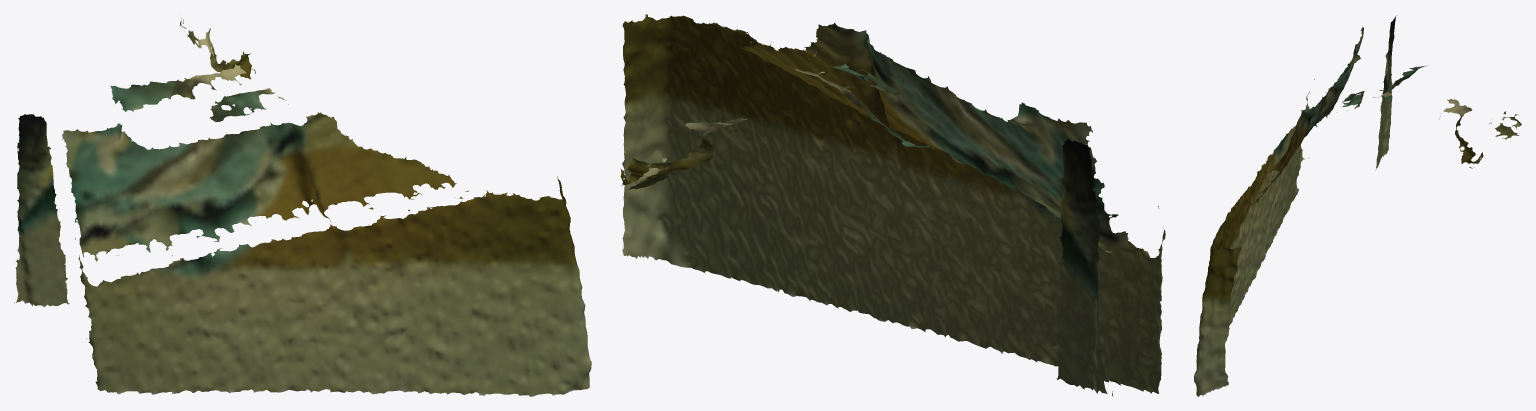
The model's file is color_model_f009_20260204_220912.obj.
3 views of the same model, side by side, from view 1: azimuth 30°, elevation 25°; view 2: azimuth 150°, elevation 25°; view 3: azimuth 270°, elevation 25° (orthographic). The views are drawn at different scales.
Size of the model in its own units: 1.85 by 1.11 by 1.5.
